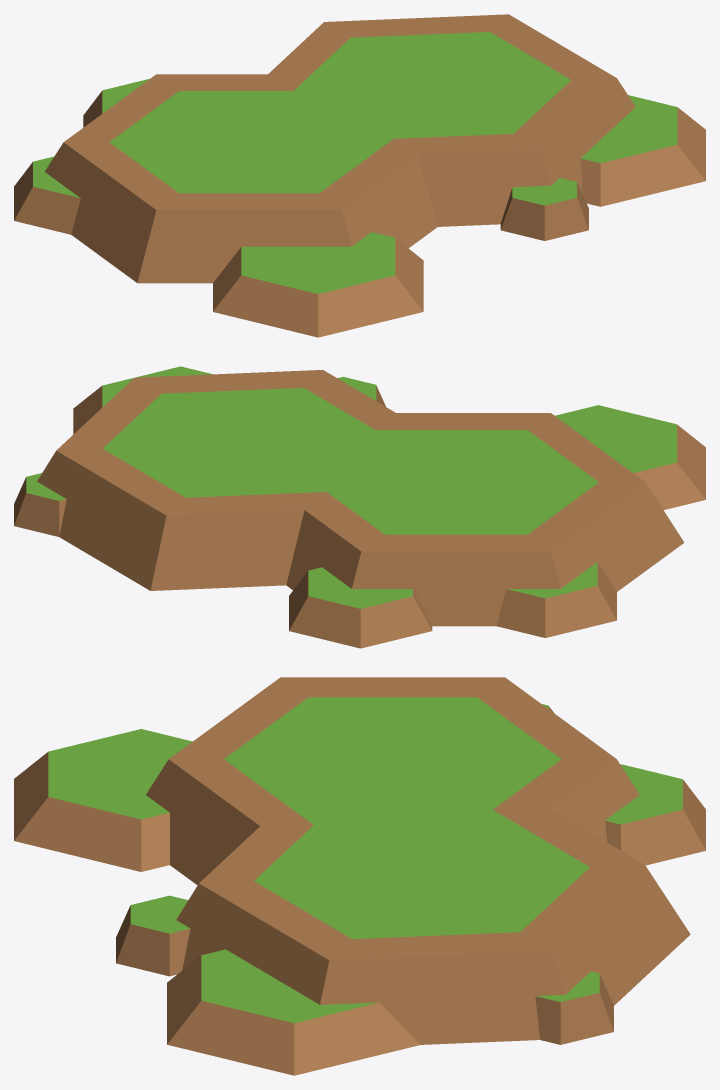
The model's file is platform_grass.glb.
The picture shows the model from 3 angles, top to bottom: view 1: azimuth 30°, elevation 25°; view 2: azimuth 150°, elevation 25°; view 3: azimuth 270°, elevation 25°; orthographic projection. The views are drawn at different scales.
Visible parts, largest first — view 1: platform_grass; view 2: platform_grass; view 3: platform_grass.
Boxes of the visible parts, box(x1,y1,x2,y2) form: platform_grass: box(14, 14, 705, 337); platform_grass: box(14, 366, 705, 648); platform_grass: box(14, 677, 705, 1075).
Size of the model in its own units: 0.8932 by 0.0825 by 0.7239.
